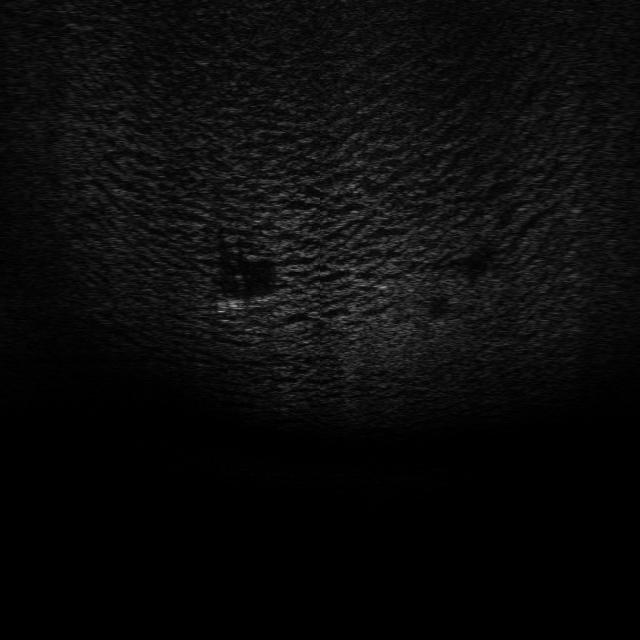plane: (213, 287, 279, 316)
